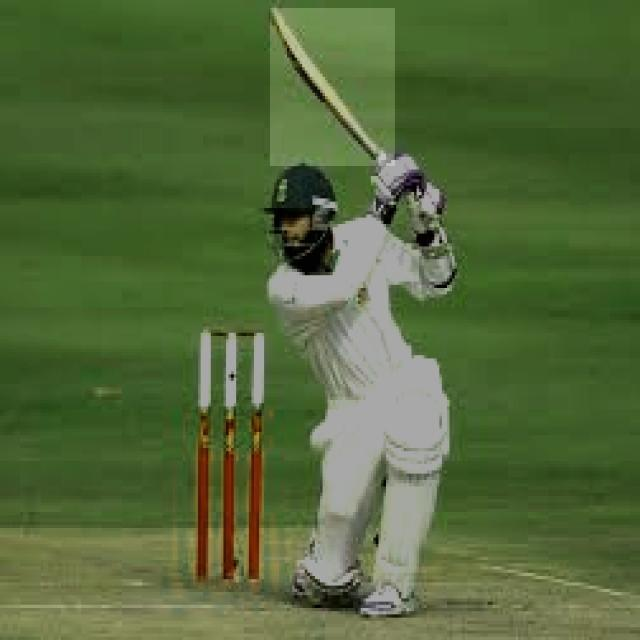bat: (271, 6, 395, 167)
